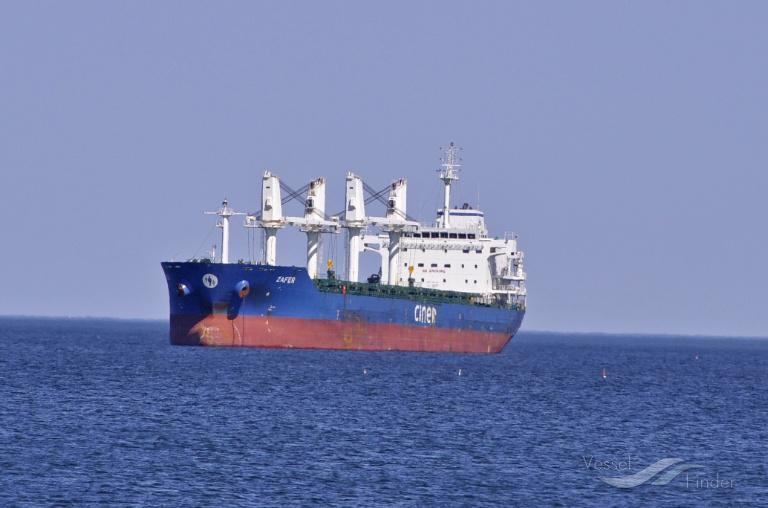OCR: (403, 298, 442, 323), (270, 272, 308, 290)
